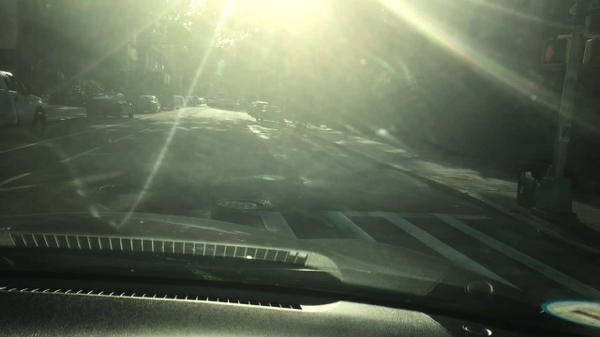car: (1, 68, 47, 138), (85, 89, 136, 121), (134, 95, 159, 115), (261, 107, 285, 123), (250, 102, 268, 121), (160, 96, 181, 111), (244, 103, 256, 114), (185, 98, 197, 107), (237, 103, 244, 114), (216, 100, 223, 109), (198, 97, 205, 105), (230, 102, 237, 110), (223, 101, 230, 108), (212, 100, 216, 108)
traffic light: (539, 35, 570, 67), (583, 38, 599, 67)
